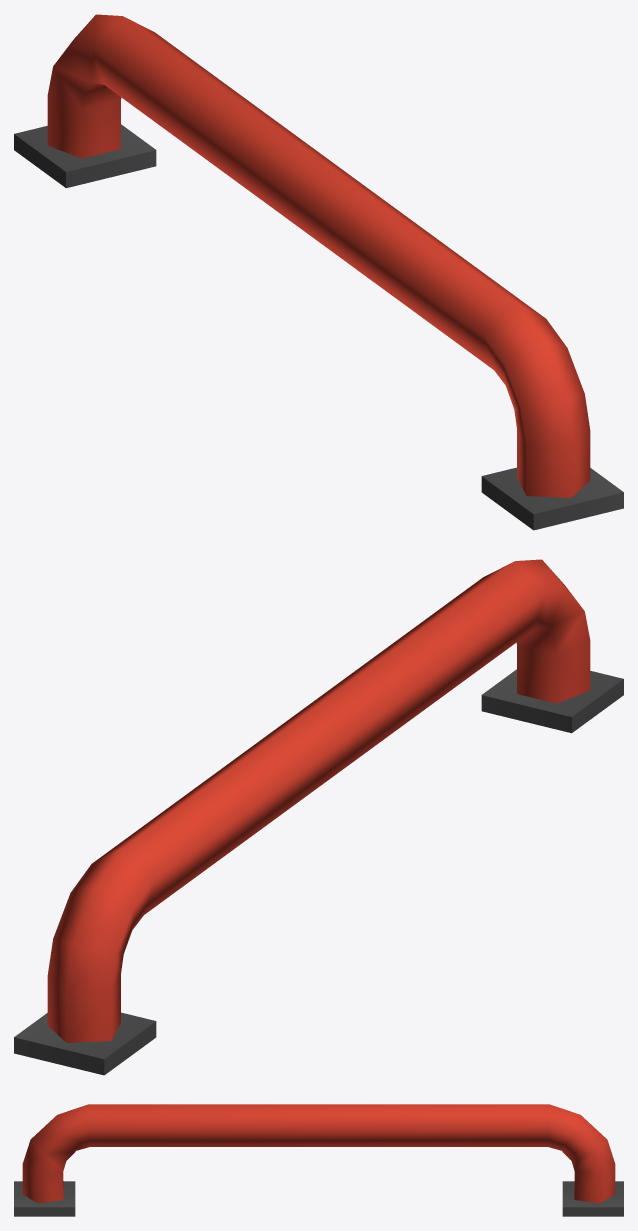
The model's file is Bollards_2_C.fbx.
3 renders of one model, top to bottom at view 1: azimuth 30°, elevation 25°; view 2: azimuth 150°, elevation 25°; view 3: azimuth 270°, elevation 25°, orthographic. The views are drawn at different scales.
Visible parts, largest first — view 1: Bollards_2_C; view 2: Bollards_2_C; view 3: Bollards_2_C.
Part boxes in pixels (left/top/right/bottom): Bollards_2_C: left=14, top=14, right=623, bottom=530; Bollards_2_C: left=14, top=559, right=623, bottom=1075; Bollards_2_C: left=14, top=1104, right=623, bottom=1216.
Bounding box in the file's own units: 15.3 × 27.46 × 152.
